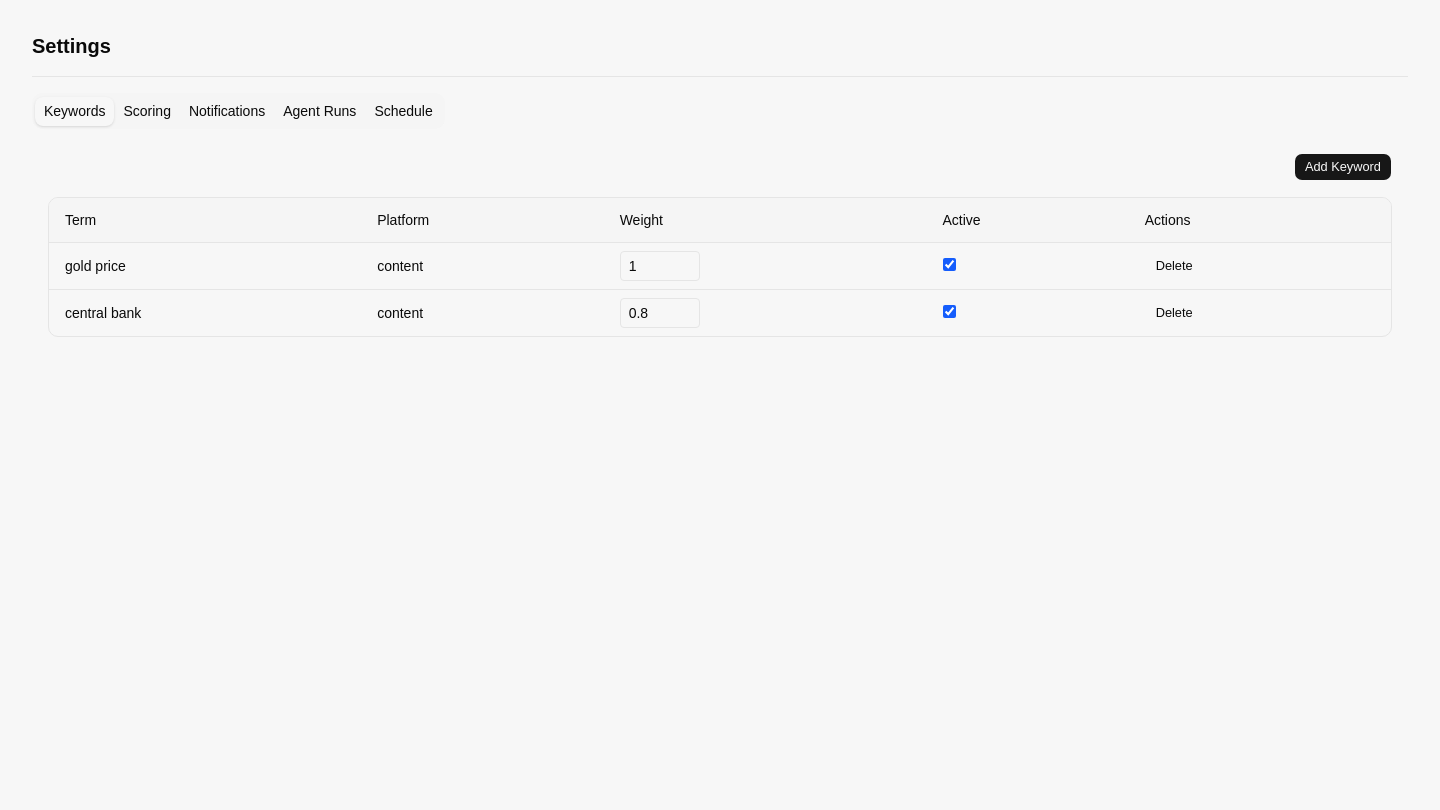
Test case: SettingsPage › keywords tab delete button opens confirmation dialog
This screenshot has width=1440, height=810.
Expected: the text "gold price" is shown, left=49, top=242, right=361, bottom=290
# Click Delete on the first keyword row
Click the button "Delete" in the row of "gold price": coordinates (1174, 266) left=1145, top=252, right=1204, bottom=280
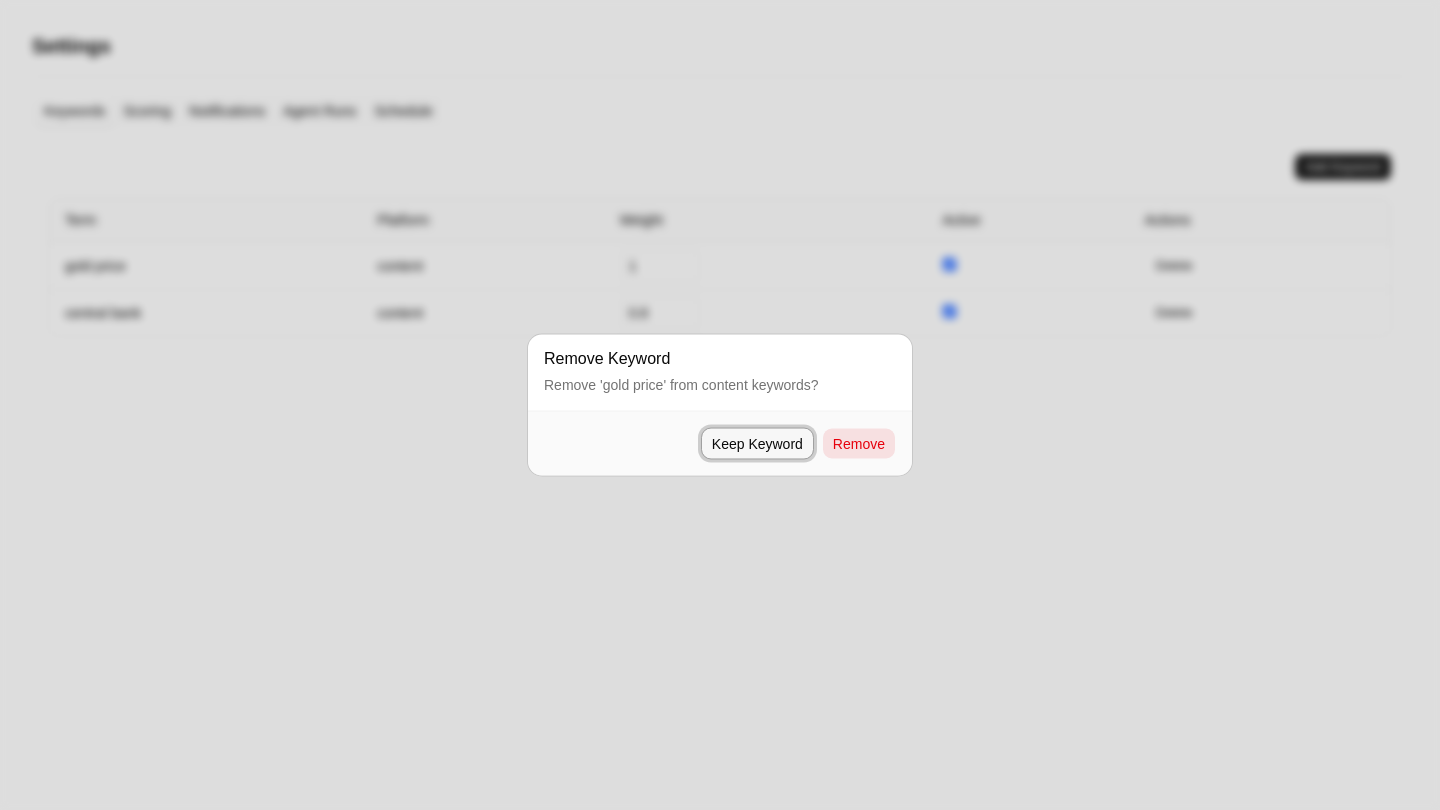
Now the heading "Remove Keyword" is shown, box left=544, top=350, right=670, bottom=366
Now the button "Keep Keyword" is shown, box left=701, top=428, right=814, bottom=460
